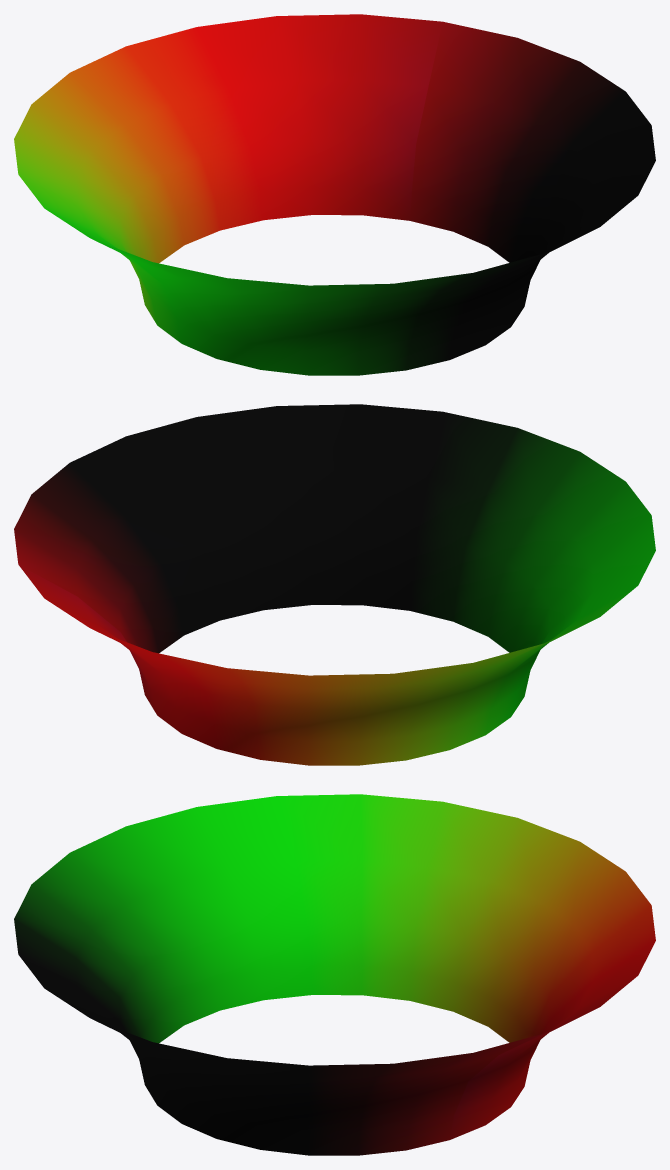
Rendered from uni_funnel_short.fbx.
3 renders of one model, top to bottom at view 1: azimuth 30°, elevation 25°; view 2: azimuth 150°, elevation 25°; view 3: azimuth 270°, elevation 25°, orthographic.
Visible parts, largest first — view 1: uni_funnel_short; view 2: uni_funnel_short; view 3: uni_funnel_short.
Boxes of the visible parts, x1,y1,x2,y2 form: uni_funnel_short: (14, 14, 655, 375); uni_funnel_short: (14, 404, 655, 765); uni_funnel_short: (14, 794, 655, 1155).
Size of the model in its own units: 25600 by 25600 by 6400.
